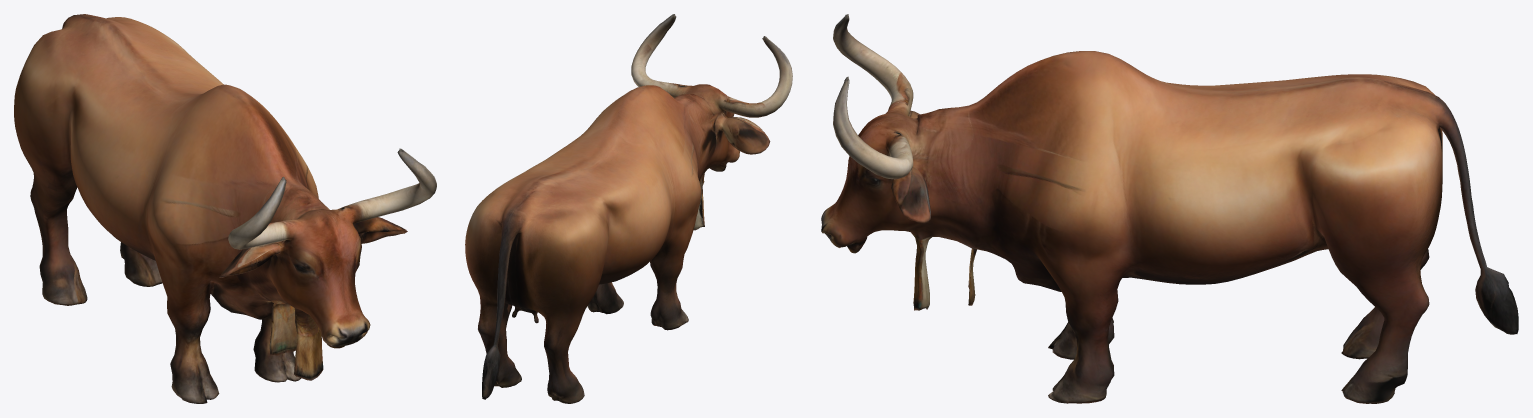
The model's file is a172_okuz.glb.
3 views of the same model, side by side, from view 1: azimuth 30°, elevation 25°; view 2: azimuth 150°, elevation 25°; view 3: azimuth 270°, elevation 25° (orthographic). The views are drawn at different scales.
Size of the model in its own units: 0.7152 by 1.03 by 1.99.
Materials: 1 (1 with a texture image).
